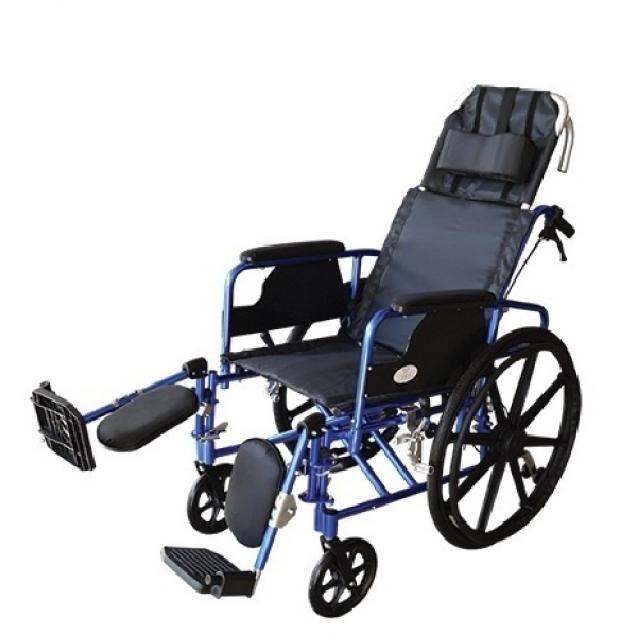wheelchair: (19, 64, 597, 626)
